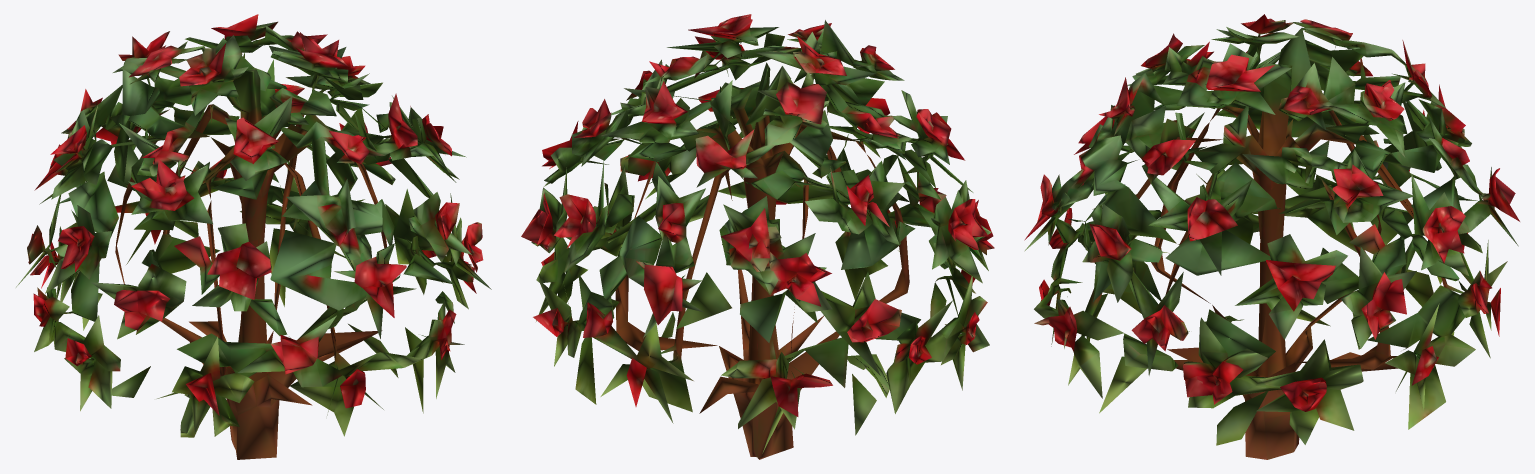
The model's file is ixora.glb.
3 views of the same model, side by side, from view 1: azimuth 30°, elevation 25°; view 2: azimuth 150°, elevation 25°; view 3: azimuth 270°, elevation 25° (orthographic).
Parts seen in each view (by area): view 1: tripo_node_f31ed3b5-2bb8-4b9e-9fdc-38a677c2f05b; view 2: tripo_node_f31ed3b5-2bb8-4b9e-9fdc-38a677c2f05b; view 3: tripo_node_f31ed3b5-2bb8-4b9e-9fdc-38a677c2f05b.
Part boxes in pixels (left/top/right/bottom): tripo_node_f31ed3b5-2bb8-4b9e-9fdc-38a677c2f05b: left=16, top=14, right=491, bottom=459; tripo_node_f31ed3b5-2bb8-4b9e-9fdc-38a677c2f05b: left=521, top=14, right=994, bottom=459; tripo_node_f31ed3b5-2bb8-4b9e-9fdc-38a677c2f05b: left=1024, top=14, right=1519, bottom=459.
Bounding box in the file's own units: 0.9986 × 0.9334 × 0.9956.
1 material, 1 textured.
